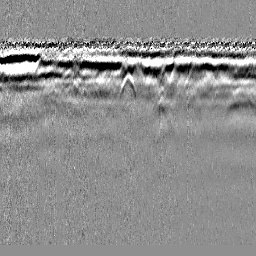cavity: (119, 72, 136, 98)
